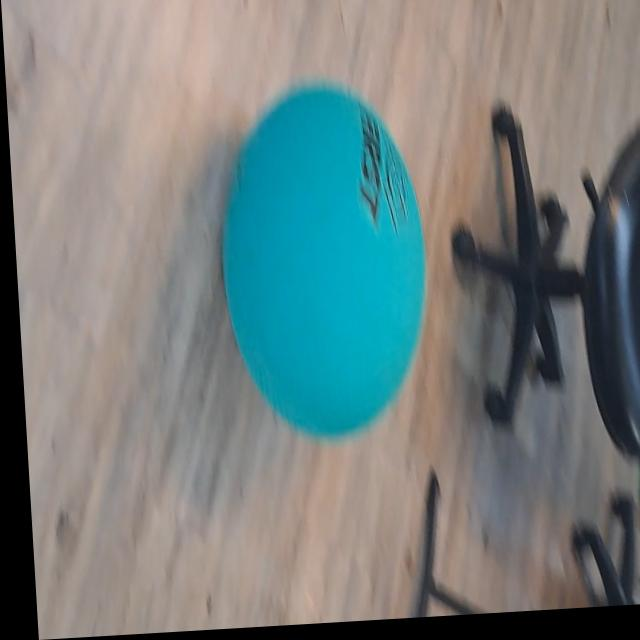ALGAE: (209, 73, 438, 447)
